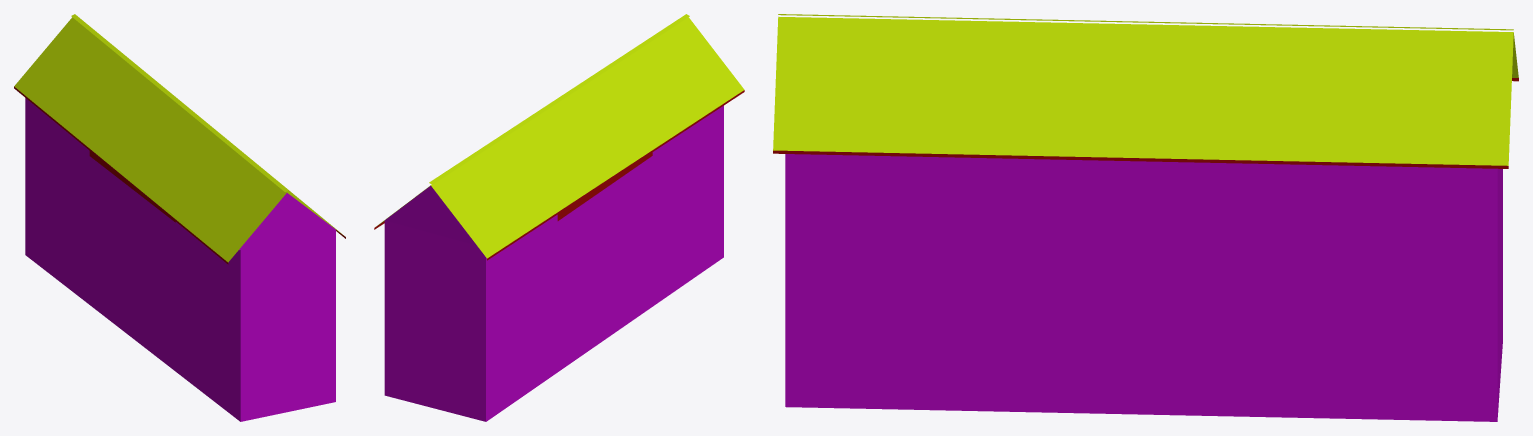
The model's file is bgj_253.glb.
3 renders of one model, left to right at view 1: azimuth 30°, elevation 25°; view 2: azimuth 150°, elevation 25°; view 3: azimuth 270°, elevation 25°, orthographic. The views are drawn at different scales.
Visible parts, largest first — view 1: bgj_253; view 2: bgj_253; view 3: bgj_253.
Part boxes in pixels (box(x1,y1,x2,y2)): bgj_253: box(14, 14, 345, 421); bgj_253: box(374, 14, 744, 421); bgj_253: box(773, 14, 1518, 421).
Size of the model in its own units: 8.32 by 13.34 by 25.44.
